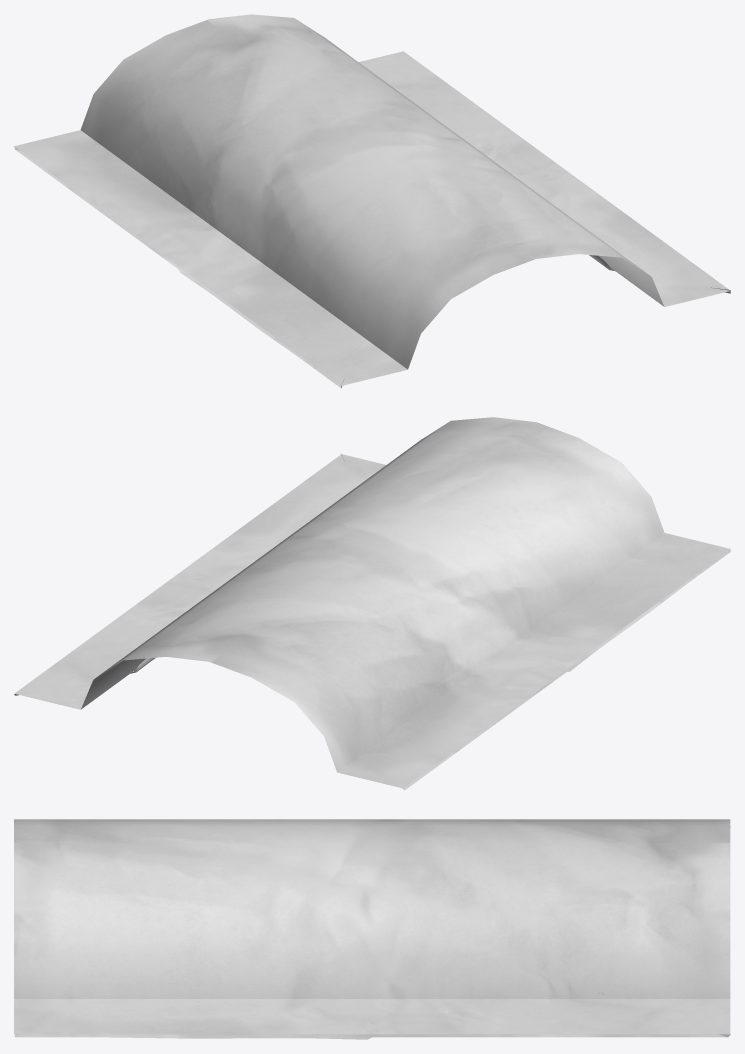
The model's file is TechoMedioSegundoVagon.FBX.
3 views of the same model, one above another, from view 1: azimuth 30°, elevation 25°; view 2: azimuth 150°, elevation 25°; view 3: azimuth 270°, elevation 25° (orthographic). The views are drawn at different scales.
Visible parts, largest first — view 1: techo2; view 2: techo2; view 3: techo2.
Boxes of the visible parts, x1,y1,x2,y2 form: techo2: (14, 14, 730, 388); techo2: (14, 417, 730, 790); techo2: (14, 819, 730, 1039).
Size of the model in its own units: 368 by 78.31 by 537.
